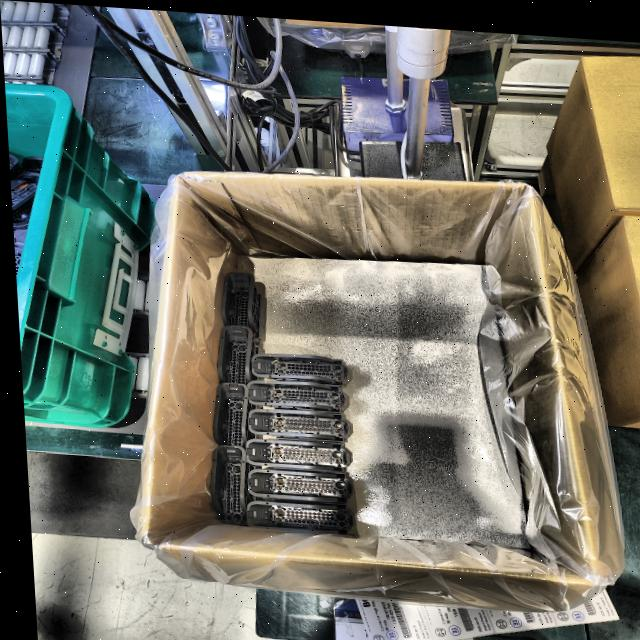P38: (240, 498, 349, 530), (242, 466, 347, 499), (241, 435, 345, 468), (217, 269, 263, 342), (243, 406, 346, 438), (242, 377, 344, 409), (247, 350, 346, 382), (204, 443, 240, 521), (213, 323, 259, 381), (208, 380, 243, 443)
